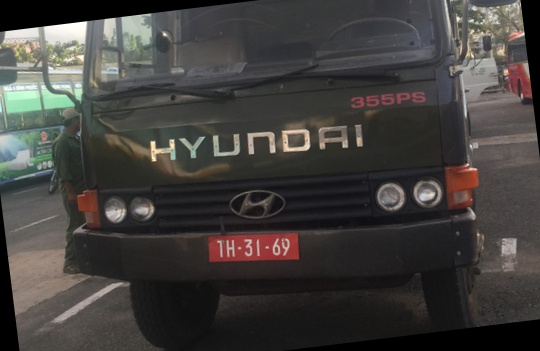plate: (206, 234, 304, 266)
